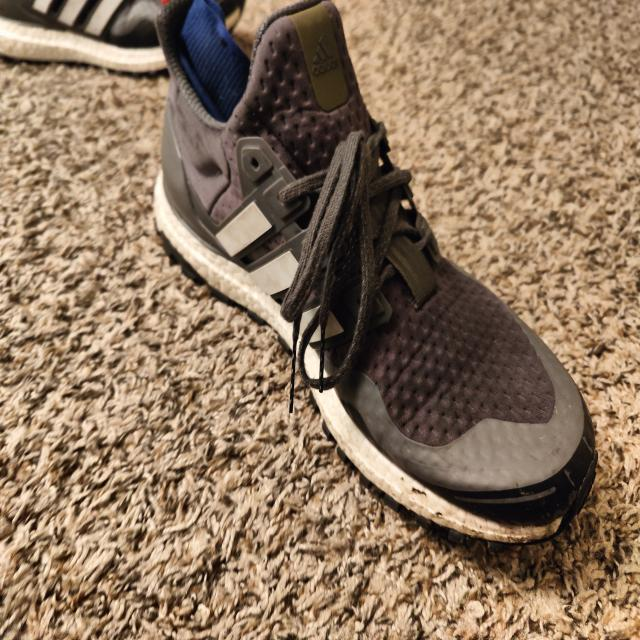black shoes: (158, 2, 596, 538)
